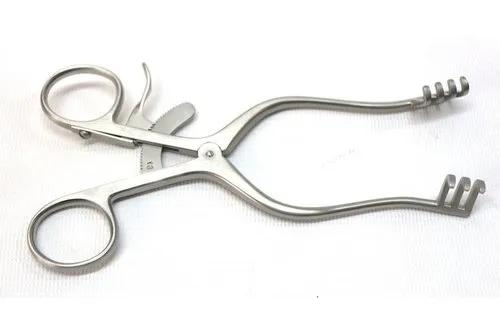Self Retractor: (27, 55, 485, 270)
